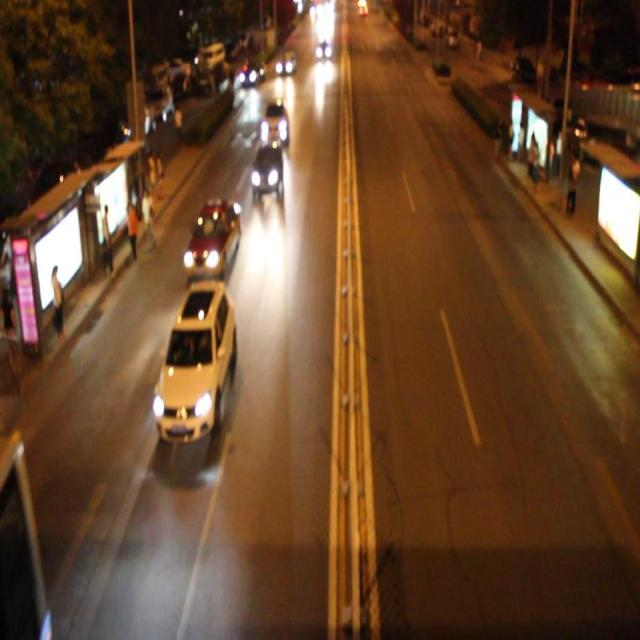car: (152, 281, 236, 443), (185, 196, 241, 280), (250, 141, 283, 198), (260, 100, 289, 147)
van: (0, 432, 50, 640)
